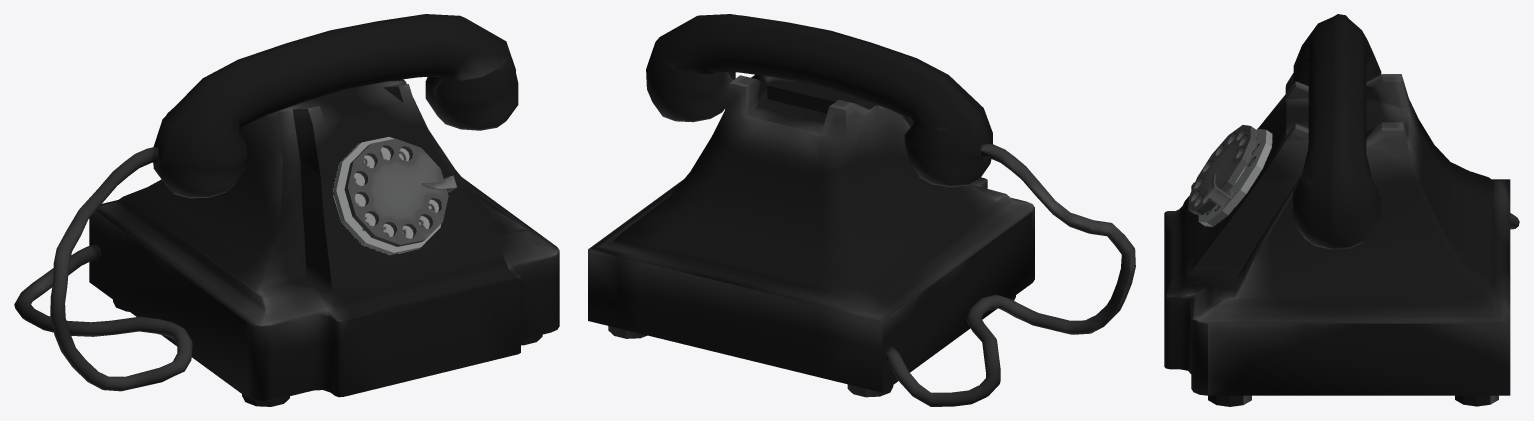
The model's file is Telephone.glb.
3 renders of one model, left to right at view 1: azimuth 30°, elevation 25°; view 2: azimuth 150°, elevation 25°; view 3: azimuth 270°, elevation 25°, orthographic. The views are drawn at different scales.
Parts seen in each view (by area): view 1: body; view 2: body; view 3: body.
Boxes of the visible parts, x1,y1,x2,y2 form: body: (14, 14, 559, 406); body: (588, 14, 1135, 406); body: (1164, 14, 1519, 406).
Size of the model in its own units: 0.6659 by 0.3834 by 0.441.
Materials: 1 (1 with a texture image).
